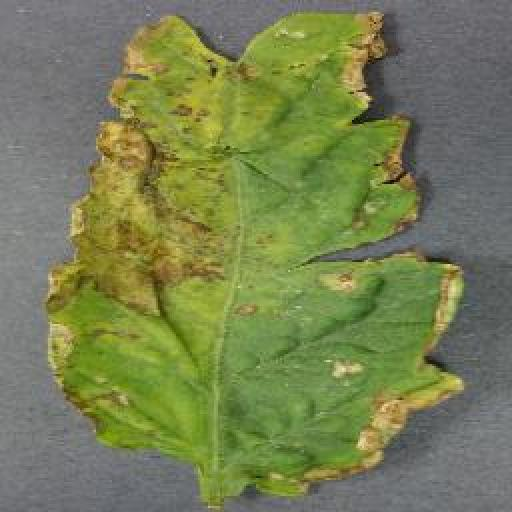Bacterial Spot: (39, 3, 473, 501)
